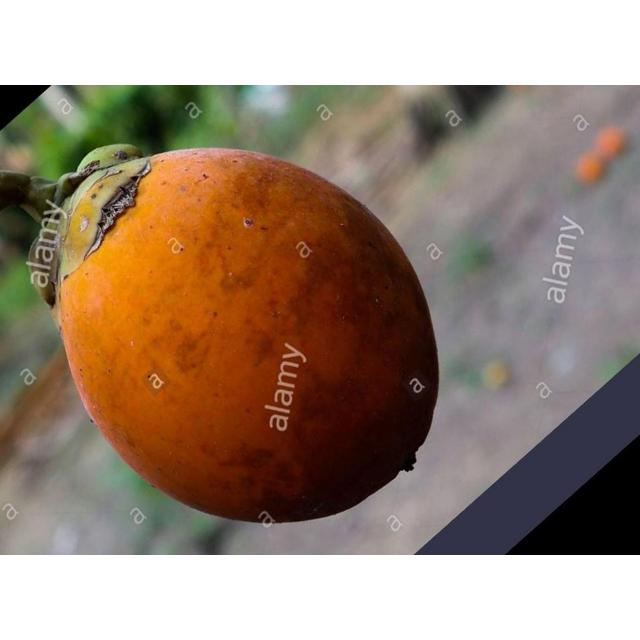good: (28, 146, 440, 527)
